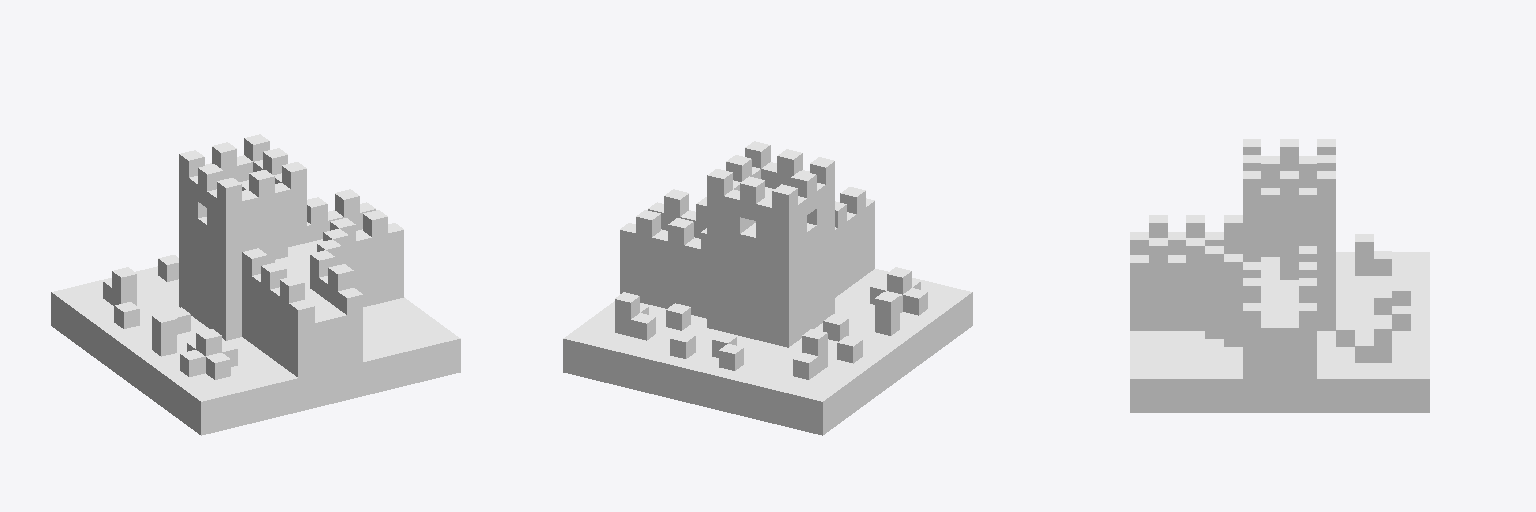
File: Castle_angle_outer_1.obj
The picture shows the model from 3 angles: view 1: azimuth 30°, elevation 25°; view 2: azimuth 150°, elevation 25°; view 3: azimuth 270°, elevation 25°; orthographic projection.
Visible parts, largest first — view 1: object 1; view 2: object 1; view 3: object 1.
Part boxes in pixels (x1,y1,x2,y2): object 1: (51,134,460,435); object 1: (563,141,972,435); object 1: (1130,139,1429,412).
Bounding box in the file's own units: 1.6 × 1.1 × 1.6.